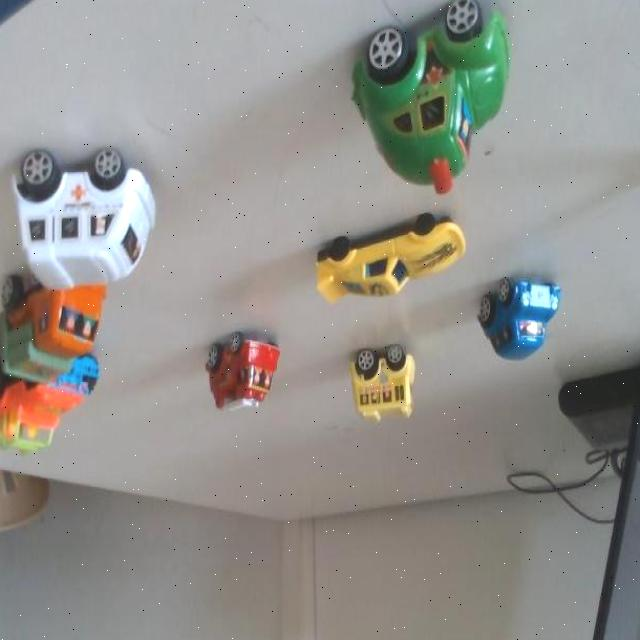car: (26, 120, 182, 312), (381, 13, 519, 180), (332, 197, 461, 315), (18, 347, 106, 459), (28, 267, 99, 389), (344, 328, 430, 427), (204, 314, 280, 426), (491, 269, 563, 364)
